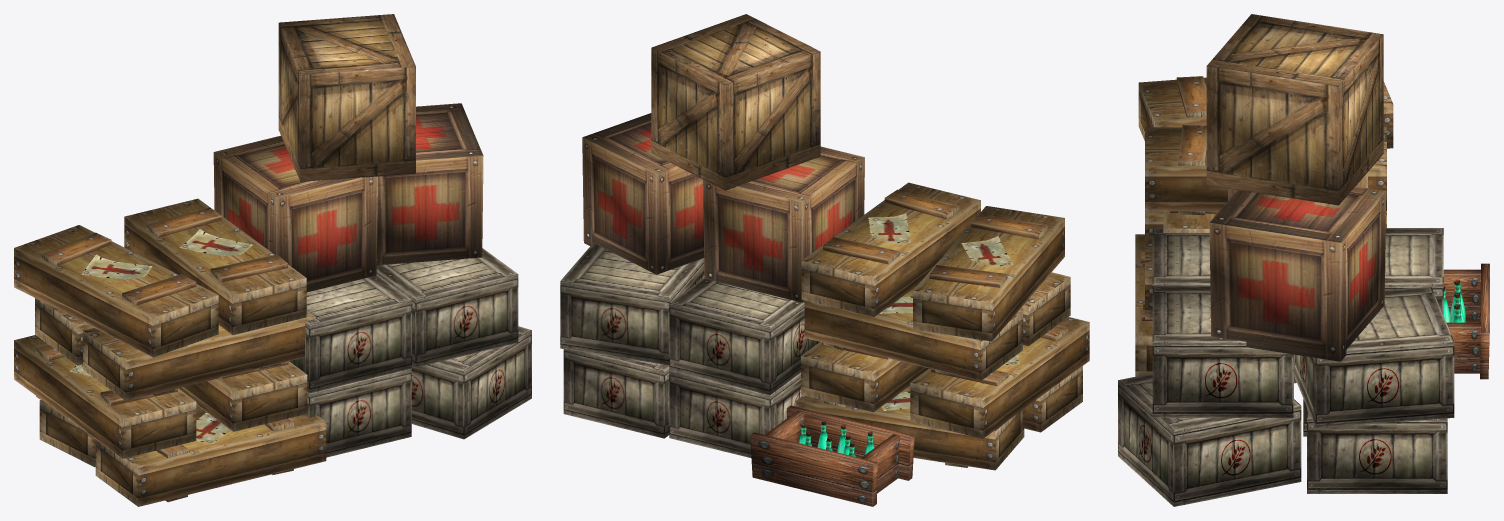
File: hellfiresupplies_06.obj
3 views of the same model, side by side, from view 1: azimuth 30°, elevation 25°; view 2: azimuth 150°, elevation 25°; view 3: azimuth 270°, elevation 25° (orthographic). The views are drawn at different scales.
Parts seen in each view (by area): view 1: Geoset0, Geoset1, Geoset2, Geoset3, Geoset6; view 2: Geoset0, Geoset1, Geoset2, Geoset3, Geoset4, Geoset6, Geoset5; view 3: Geoset1, Geoset3, Geoset2, Geoset0, Geoset4, Geoset5.
Part boxes in pixels (bbox=[...]): Geoset0: bbox=[14, 198, 326, 506]; Geoset1: bbox=[289, 248, 531, 457]; Geoset2: bbox=[213, 103, 483, 292]; Geoset3: bbox=[278, 14, 415, 181]; Geoset6: bbox=[69, 229, 252, 443]; Geoset0: bbox=[795, 182, 1089, 470]; Geoset1: bbox=[560, 243, 819, 457]; Geoset2: bbox=[582, 113, 864, 302]; Geoset3: bbox=[651, 14, 820, 190]; Geoset4: bbox=[750, 405, 914, 506]; Geoset6: bbox=[868, 213, 1019, 410]; Geoset5: bbox=[798, 424, 874, 456]; Geoset1: bbox=[1118, 228, 1454, 506]; Geoset3: bbox=[1206, 14, 1383, 205]; Geoset2: bbox=[1209, 172, 1386, 361]; Geoset0: bbox=[1135, 76, 1393, 383]; Geoset4: bbox=[1443, 263, 1489, 379]; Geoset5: bbox=[1443, 283, 1465, 322].
Bounding box in the file's own units: 5.24 × 4.01 × 3.5.
7 materials, 7 textured.
